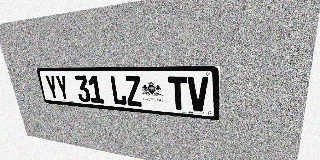1: (87, 75, 104, 104)
3: (74, 75, 91, 102)
L: (109, 76, 127, 105)
T: (168, 76, 188, 111)
V: (188, 77, 208, 112)
Y: (55, 75, 71, 101), (44, 75, 60, 100)
Z: (124, 76, 143, 107)
